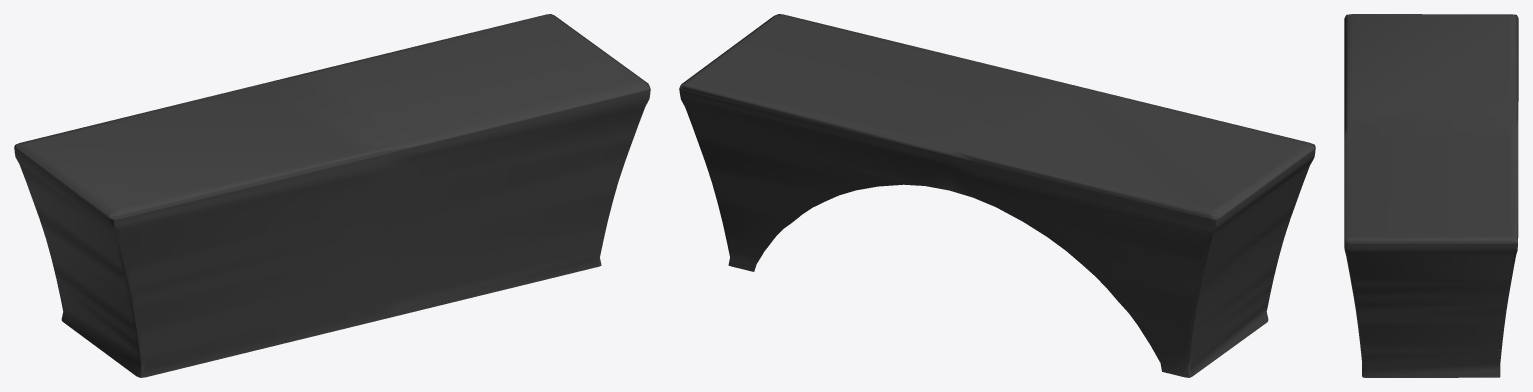
The model's file is multi-8ft-3.glb.
The picture shows the model from 3 angles, left to right: view 1: azimuth 30°, elevation 25°; view 2: azimuth 150°, elevation 25°; view 3: azimuth 270°, elevation 25°; orthographic projection. The views are drawn at different scales.
Visible parts, largest first — view 1: geometry_0; view 2: geometry_0; view 3: geometry_0.
Boxes of the visible parts, left/top/right/bottom form: geometry_0: left=14, top=14, right=650, bottom=377; geometry_0: left=679, top=14, right=1315, bottom=377; geometry_0: left=1344, top=14, right=1518, bottom=377.
Bounding box in the file's own units: 2.46 × 0.7812 × 0.7954.
Materials: 1 (1 with a texture image).
